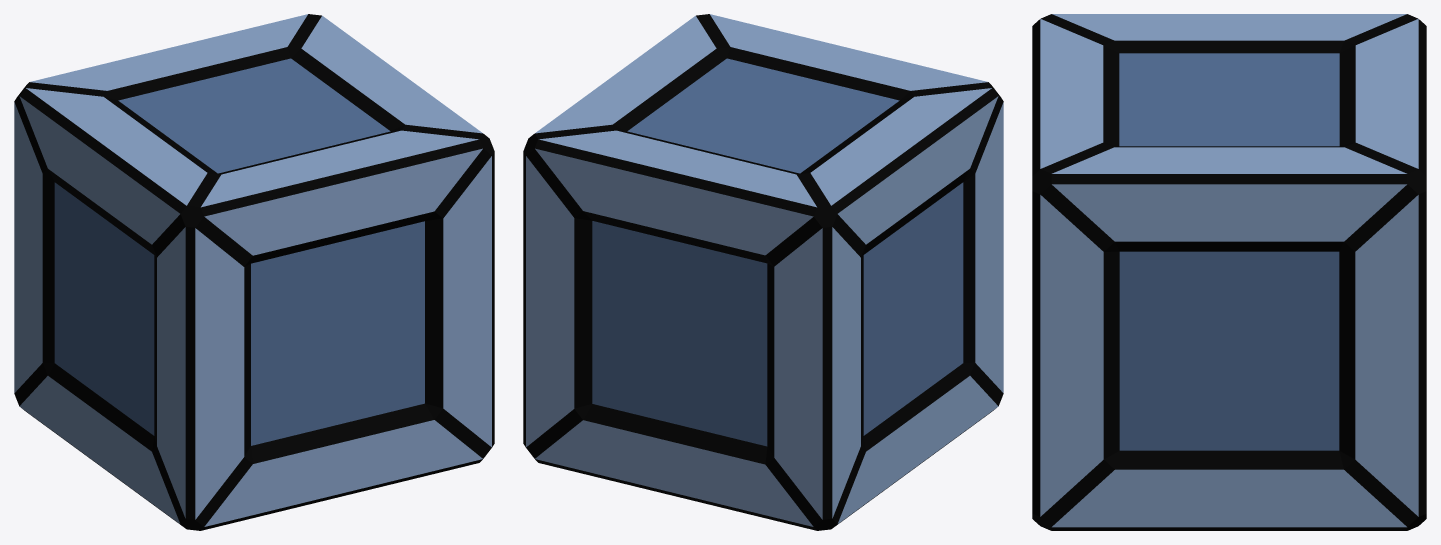
Rendered from SpaceBox.fbx.
The picture shows the model from 3 angles, left to right: view 1: azimuth 30°, elevation 25°; view 2: azimuth 150°, elevation 25°; view 3: azimuth 270°, elevation 25°; orthographic projection. The views are drawn at different scales.
Parts seen in each view (by area): view 1: Cube; view 2: Cube; view 3: Cube.
Boxes of the visible parts, bbox=[...] form: Cube: bbox=[14, 14, 494, 530]; Cube: bbox=[523, 14, 1003, 530]; Cube: bbox=[1032, 14, 1426, 530].
Size of the model in its own units: 100 by 100 by 100.
